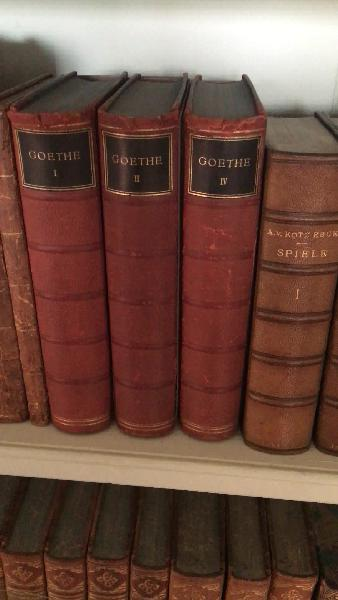Aa6-11_13: (7, 107, 260, 439)
